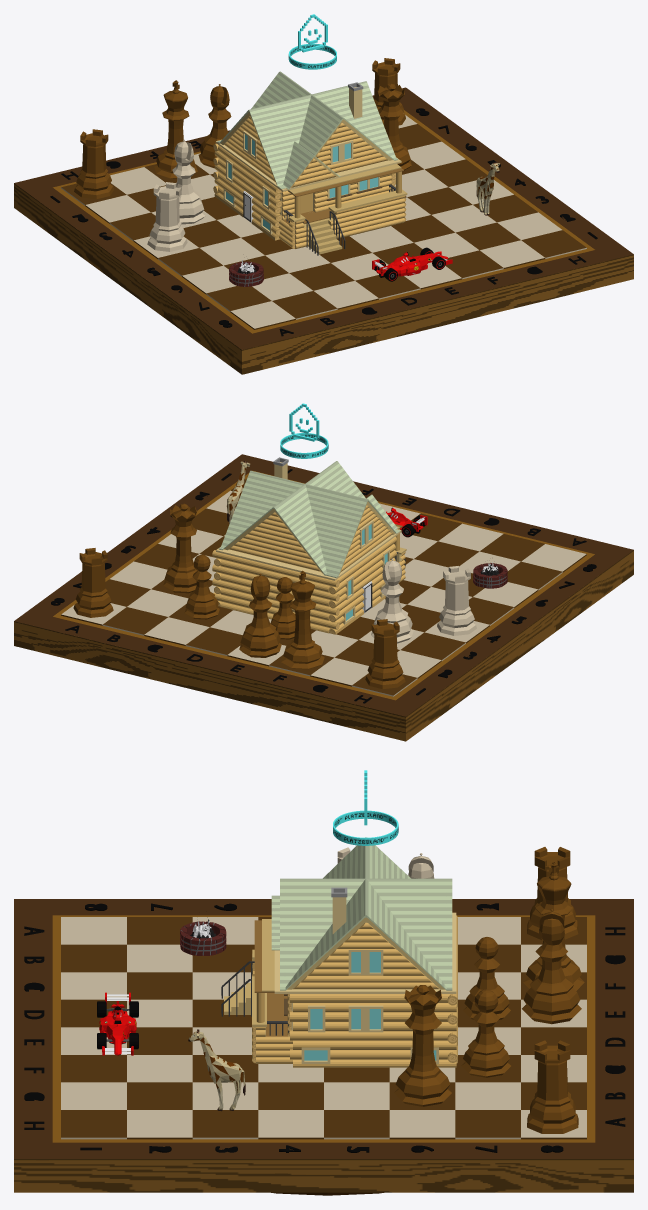
3 renders of one model, top to bottom at view 1: azimuth 30°, elevation 25°; view 2: azimuth 150°, elevation 25°; view 3: azimuth 270°, elevation 25°, orthographic. The views are drawn at different scales.
Parts seen in each view (by area): view 1: Cube.002, Cube.1516, VEHICLES_FORMULA_1, TYPE_PREMIUM, OBJRANDOM_CAMPFIRE, ANIMAL_JIRAFA; view 2: Cube.002, Cube.1516, TYPE_PREMIUM, OBJRANDOM_CAMPFIRE, VEHICLES_FORMULA_1, ANIMAL_JIRAFA; view 3: Cube.002, Cube.1516, VEHICLES_FORMULA_1, ANIMAL_JIRAFA, OBJRANDOM_CAMPFIRE, TYPE_PREMIUM.
Part boxes in pixels (x1=…): Cube.002: x1=14, y1=58, x2=633, y2=374; Cube.1516: x1=213, y1=71, x2=407, y2=255; VEHICLES_FORMULA_1: x1=372, y1=247, x2=452, y2=281; TYPE_PREMIUM: x1=288, y1=14, x2=336, y2=69; OBJRANDOM_CAMPFIRE: x1=229, y1=260, x2=263, y2=286; ANIMAL_JIRAFA: x1=476, y1=161, x2=499, y2=215; Cube.002: x1=14, y1=454, x2=633, y2=741; Cube.1516: x1=212, y1=457, x2=406, y2=634; TYPE_PREMIUM: x1=280, y1=403, x2=328, y2=458; OBJRANDOM_CAMPFIRE: x1=473, y1=562, x2=507, y2=588; VEHICLES_FORMULA_1: x1=386, y1=507, x2=427, y2=537; ANIMAL_JIRAFA: x1=226, y1=461, x2=250, y2=523; Cube.002: x1=14, y1=847, x2=633, y2=1192; Cube.1516: x1=221, y1=837, x2=457, y2=1067; VEHICLES_FORMULA_1: x1=97, y1=992, x2=138, y2=1055; ANIMAL_JIRAFA: x1=188, y1=1029, x2=245, y2=1111; OBJRANDOM_CAMPFIRE: x1=180, y1=917, x2=226, y2=955; TYPE_PREMIUM: x1=333, y1=770, x2=398, y2=845.
Bounding box in the file's own units: 3981 × 2244 × 4012.
47 materials, 4 textured.
